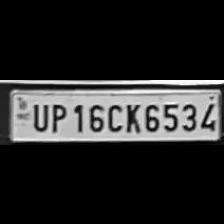1: (68, 99, 86, 131)
3: (180, 98, 196, 130)
4: (198, 98, 216, 130)
5: (160, 98, 178, 130)
6: (85, 99, 105, 131), (141, 99, 161, 131)
C: (106, 100, 122, 130)
K: (122, 99, 140, 131)
P: (48, 100, 68, 132)
U: (28, 99, 48, 130)
